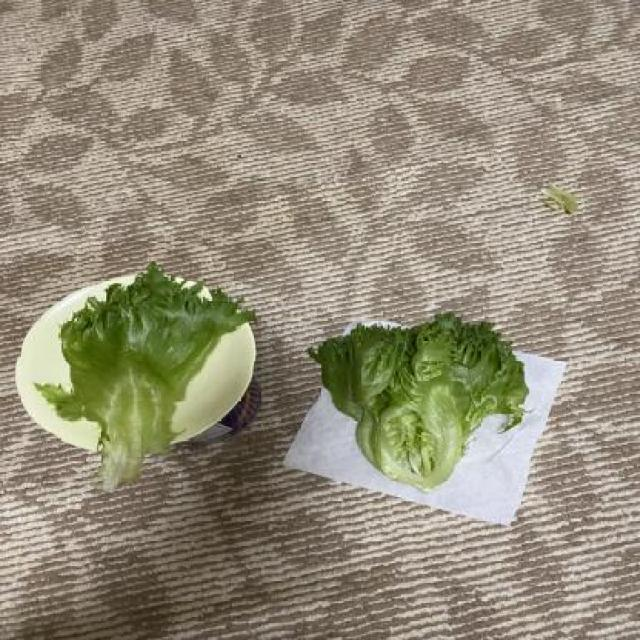Lettuce: (40, 256, 256, 496), (303, 308, 536, 499)
